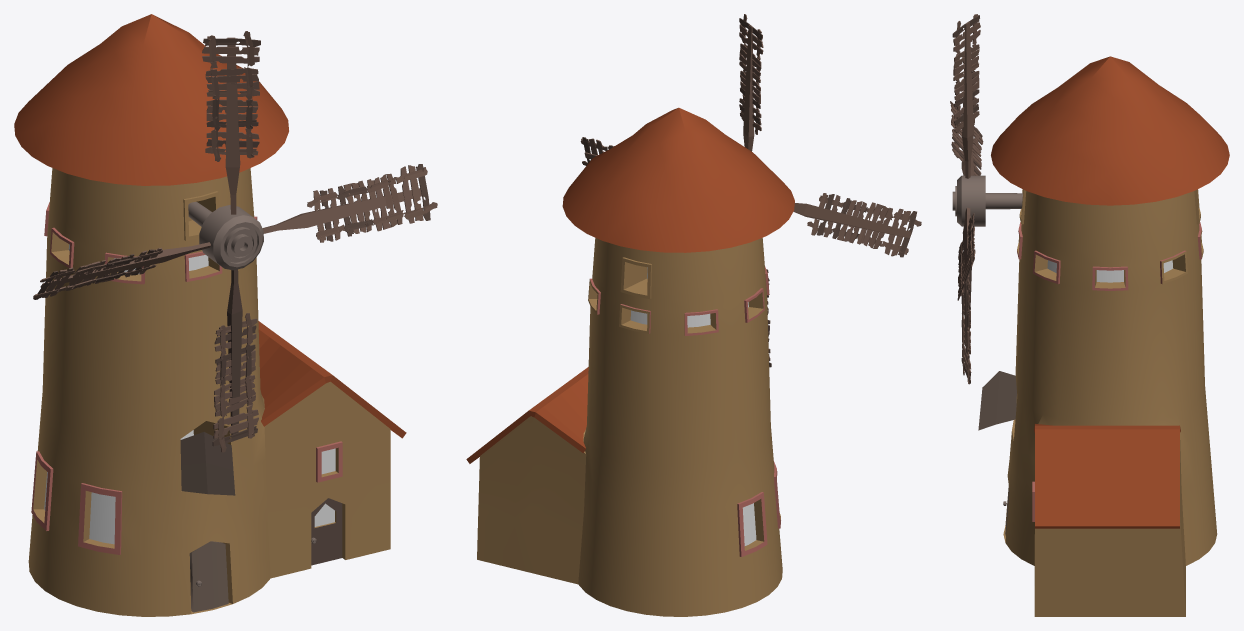
The model's file is Molino_low.fbx.
3 renders of one model, left to right at view 1: azimuth 30°, elevation 25°; view 2: azimuth 150°, elevation 25°; view 3: azimuth 270°, elevation 25°, orthographic. The views are drawn at different scales.
Visible parts, largest first — view 1: Cylinder, Cylinder.004, Cylinder.005; view 2: Cylinder, Cylinder.004; view 3: Cylinder, Cylinder.004.
Boxes of the visible parts, left/top/right/bottom form: Cylinder: left=14, top=14, right=406, bottom=616; Cylinder.004: left=33, top=31, right=437, bottom=452; Cylinder.005: left=189, top=541, right=228, bottom=612; Cylinder: left=466, top=107, right=794, bottom=616; Cylinder.004: left=580, top=14, right=921, bottom=367; Cylinder: left=978, top=56, right=1229, bottom=616; Cylinder.004: left=950, top=14, right=1022, bottom=384.
Bounding box in the file's own units: 1438 × 1993 × 978.
